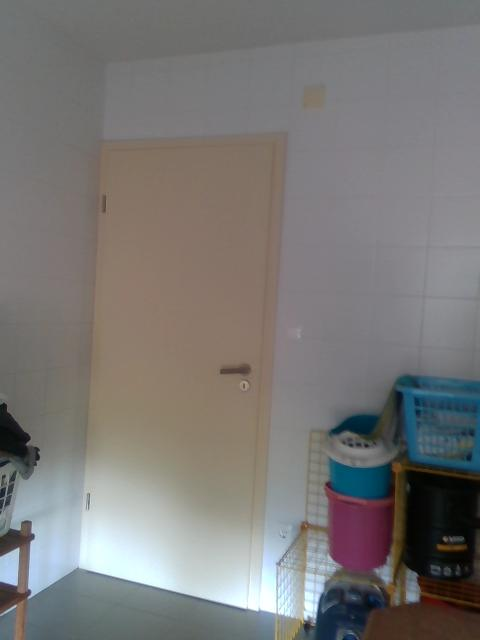door: (88, 152, 259, 607)
